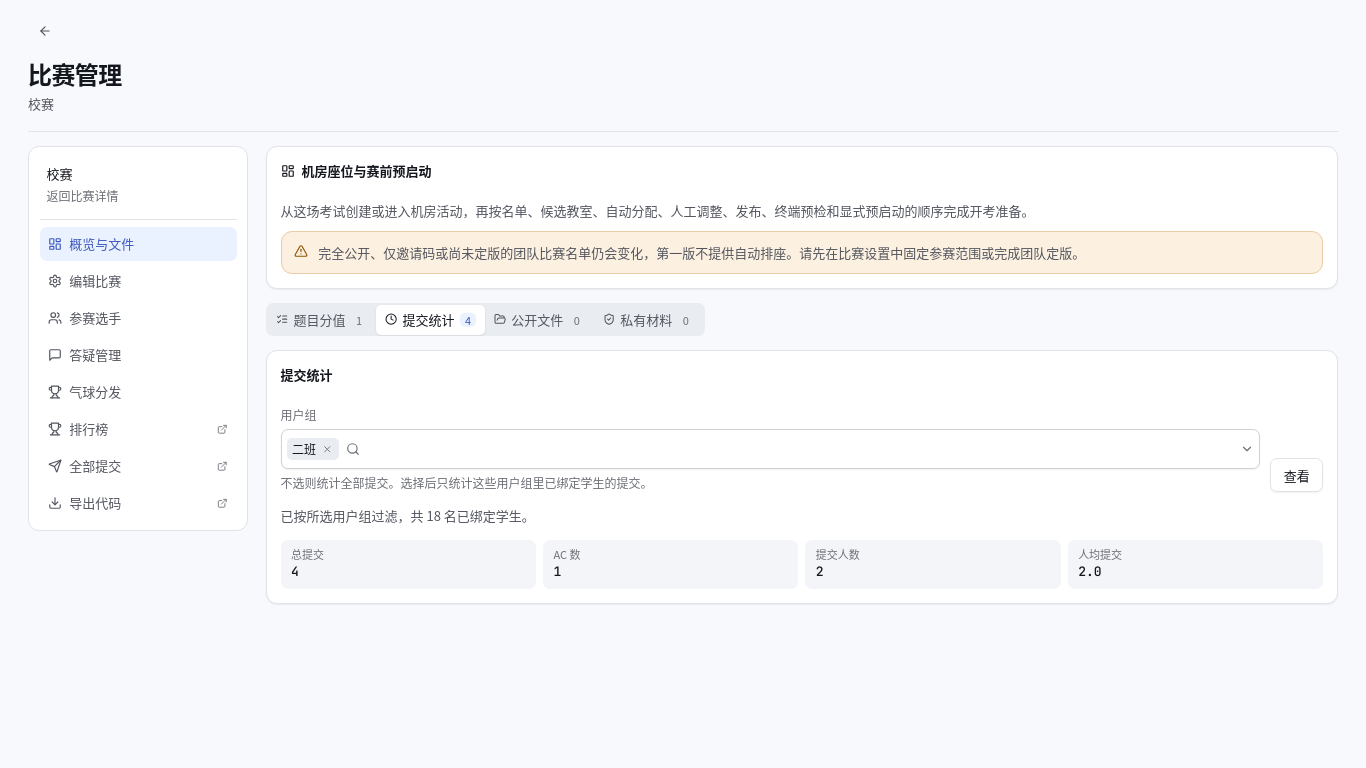
Scenario: stats group filter › shows the contest submission stats filter and keeps the tab after reload
Expected: the form named "tab" holds "stats", [280,406,1323,492]
Expected: the text "二班" is shown, [292,440,316,458]
Click the tab "题目分值 1" at (322, 320), box [267,304,376,334]
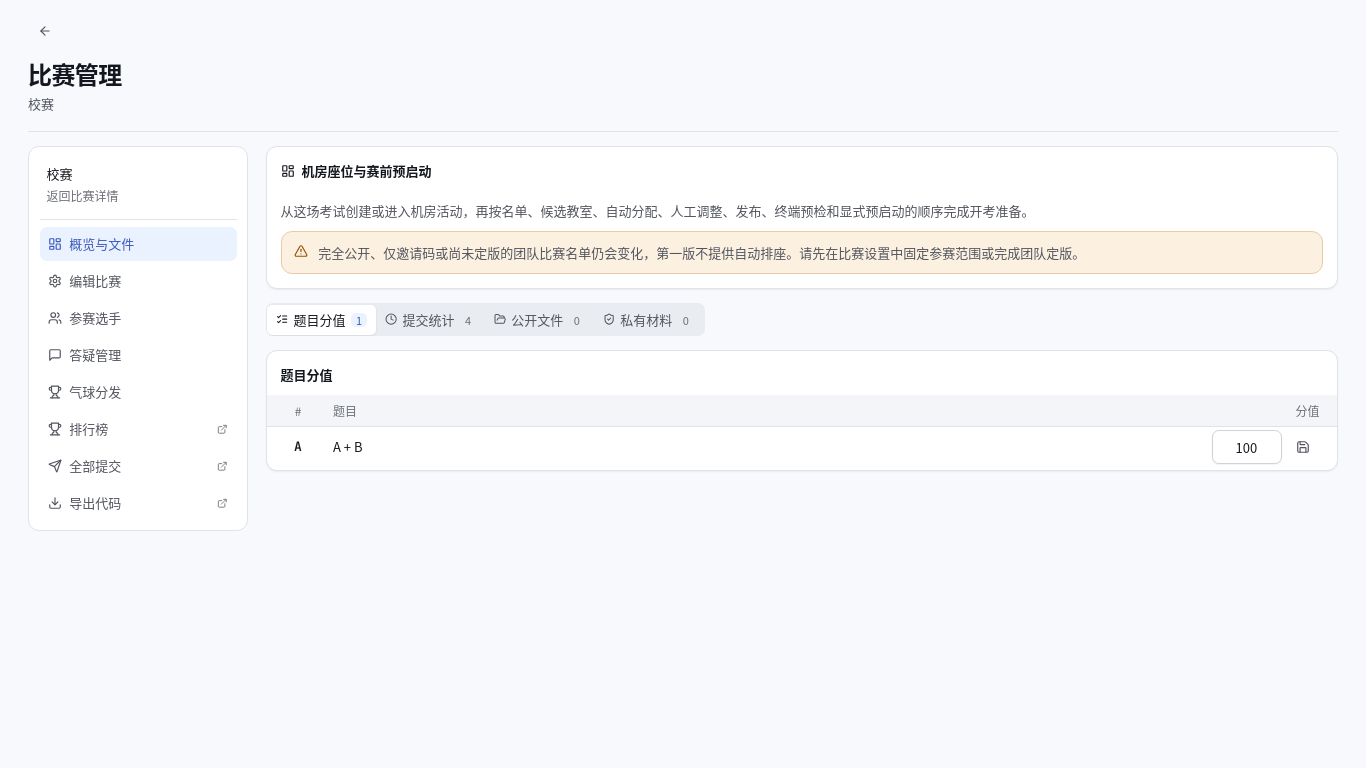
Now the text "用户组" is gone
Click the tab "提交统计 4" at (431, 320), box [376,304,485,334]
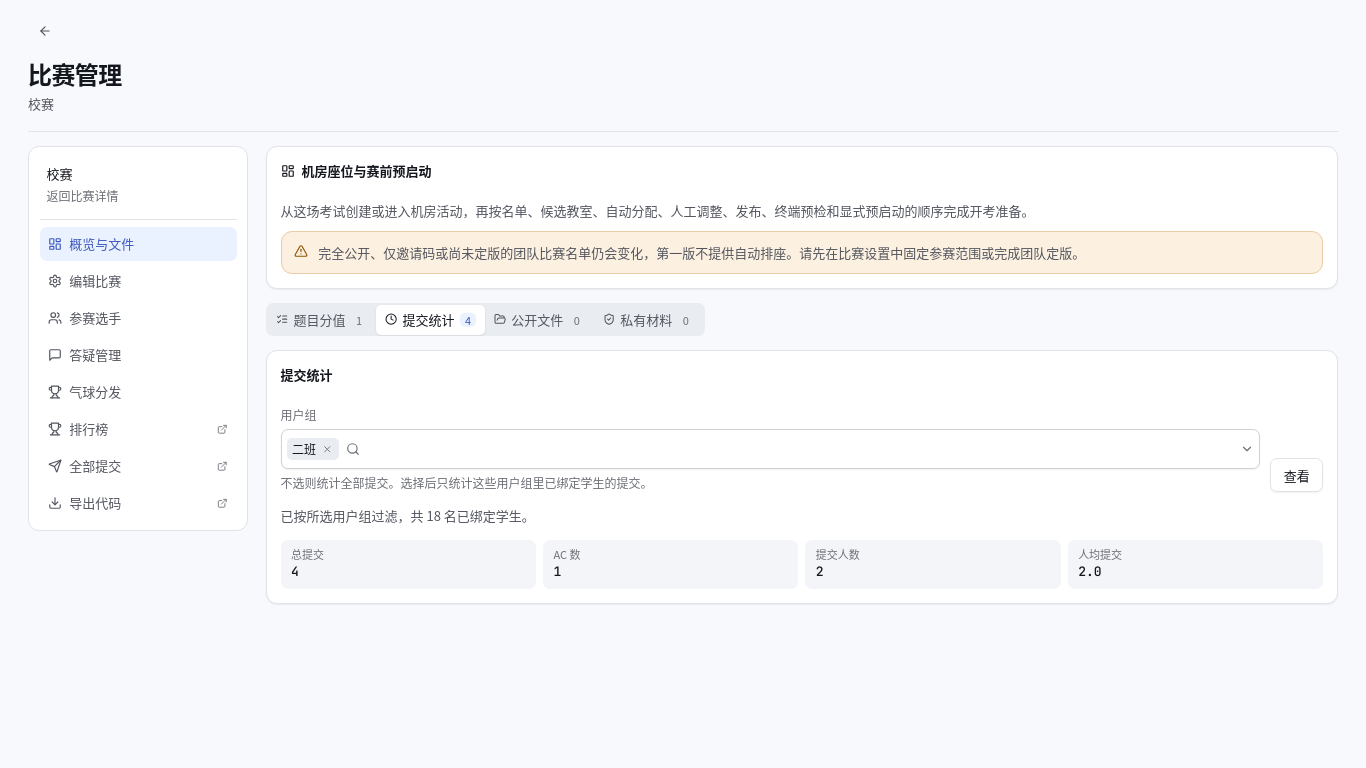
Now the element "用户组" is shown, box [280,406,1260,492]
